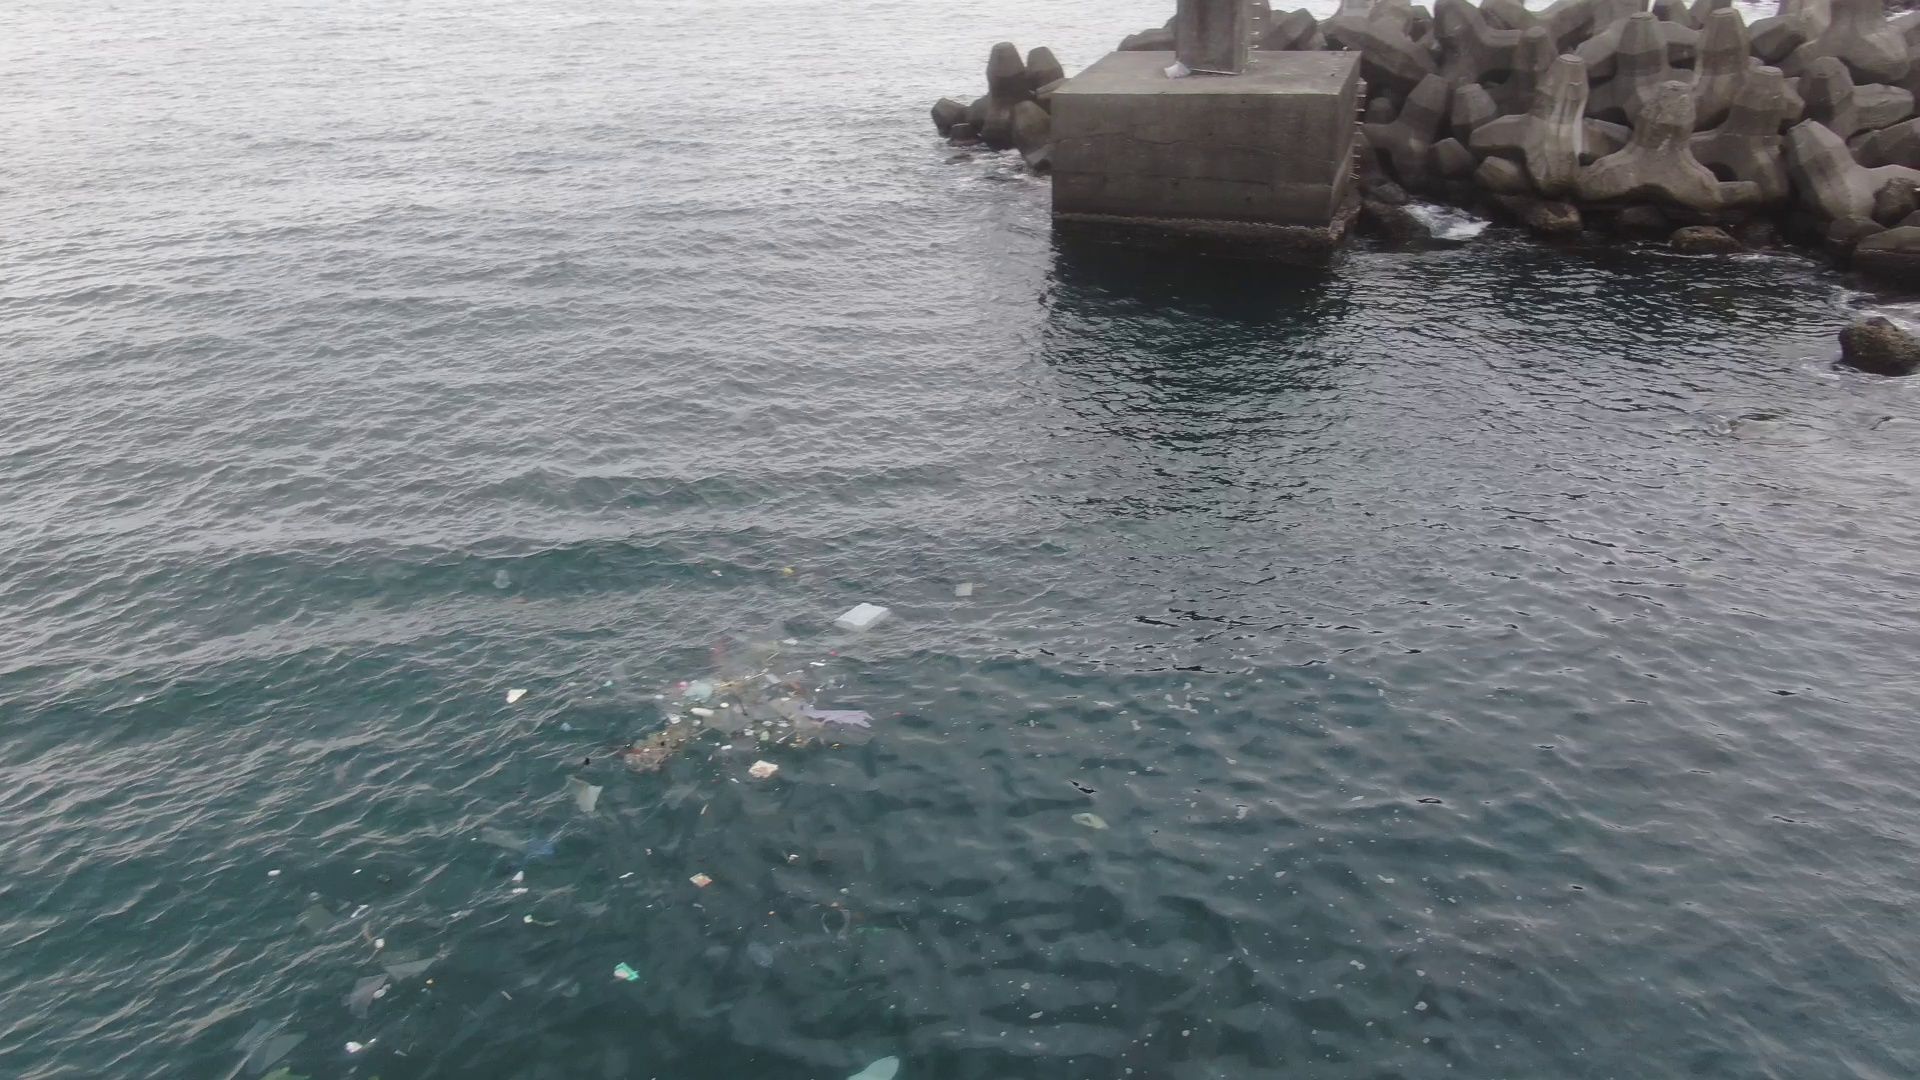garbage: (637, 633, 872, 779), (833, 603, 891, 632), (566, 773, 603, 818), (861, 1056, 902, 1080), (611, 961, 641, 982), (1072, 811, 1112, 827), (686, 869, 713, 891), (491, 568, 512, 591), (506, 688, 527, 705), (953, 583, 975, 597)
